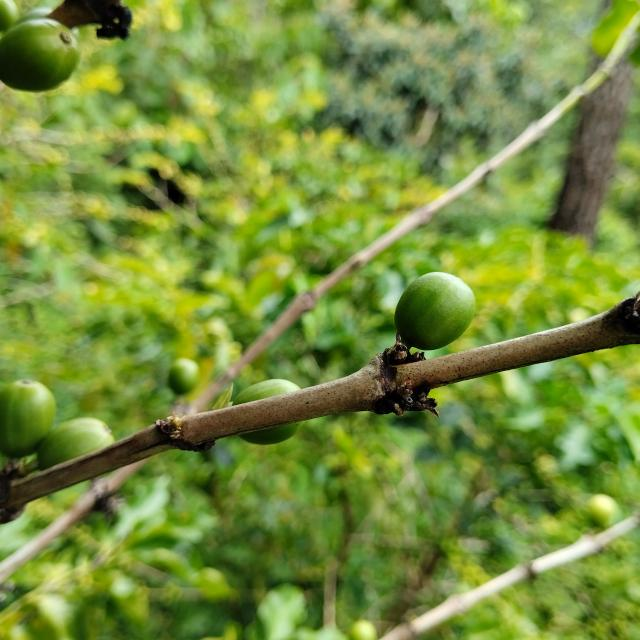green: (395, 272, 476, 351), (0, 18, 79, 91), (0, 379, 55, 458), (37, 418, 114, 470), (232, 379, 300, 406), (239, 423, 301, 445)
